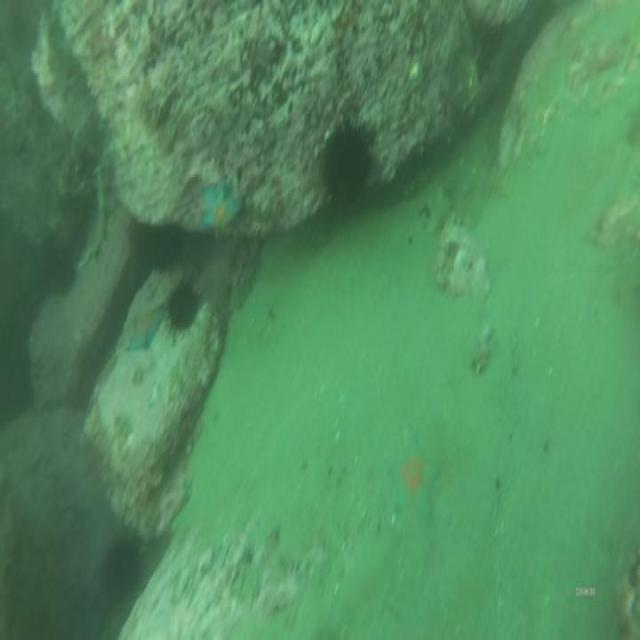echinus: (316, 112, 381, 220), (96, 529, 146, 604), (163, 272, 206, 343)
starfish: (386, 430, 440, 524), (198, 176, 243, 238), (125, 305, 162, 356)
